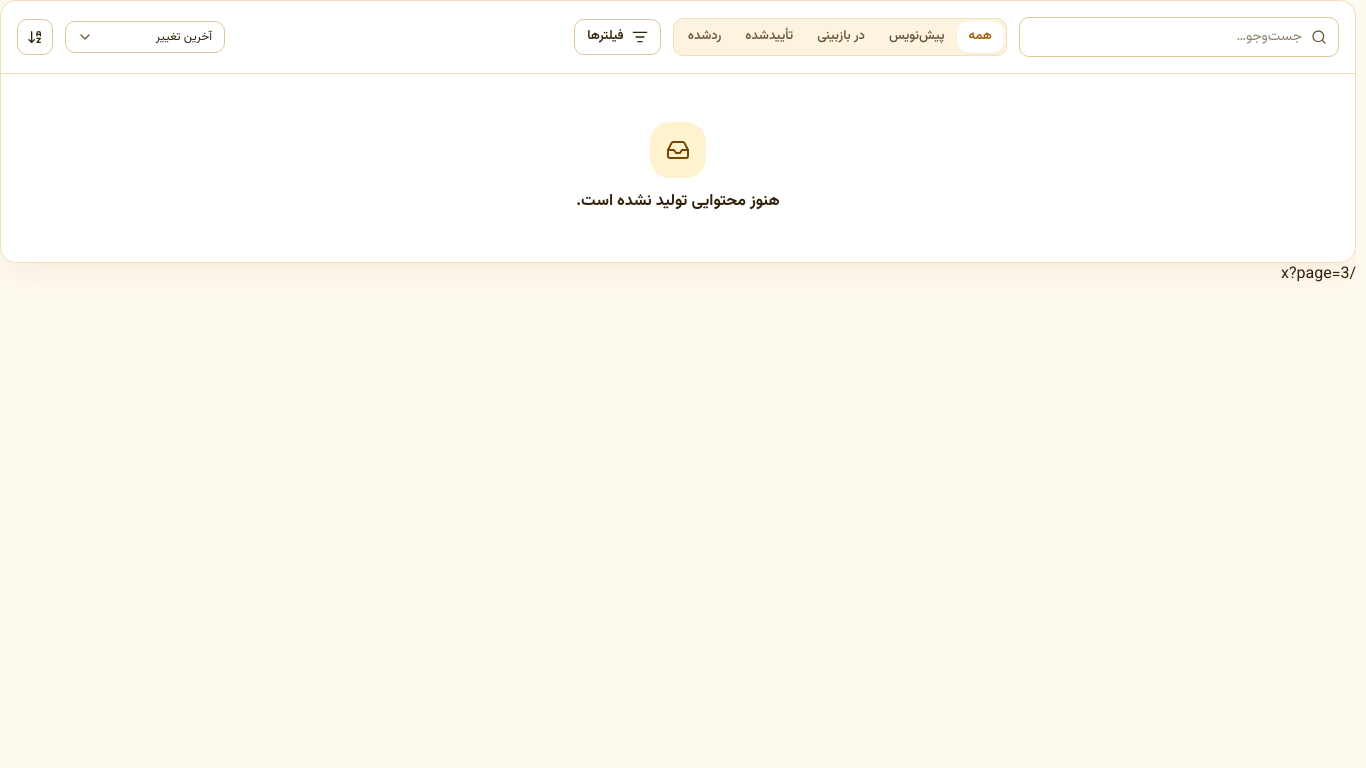
Test: ContentsTable filters › writes a chosen filter to the URL and starts from page one again
What coordinates should you click on to do the following:
click the button "فیلترها"
I would click on:
 (617, 37)
Its box is x1=574 y1=19 x2=661 y2=55.
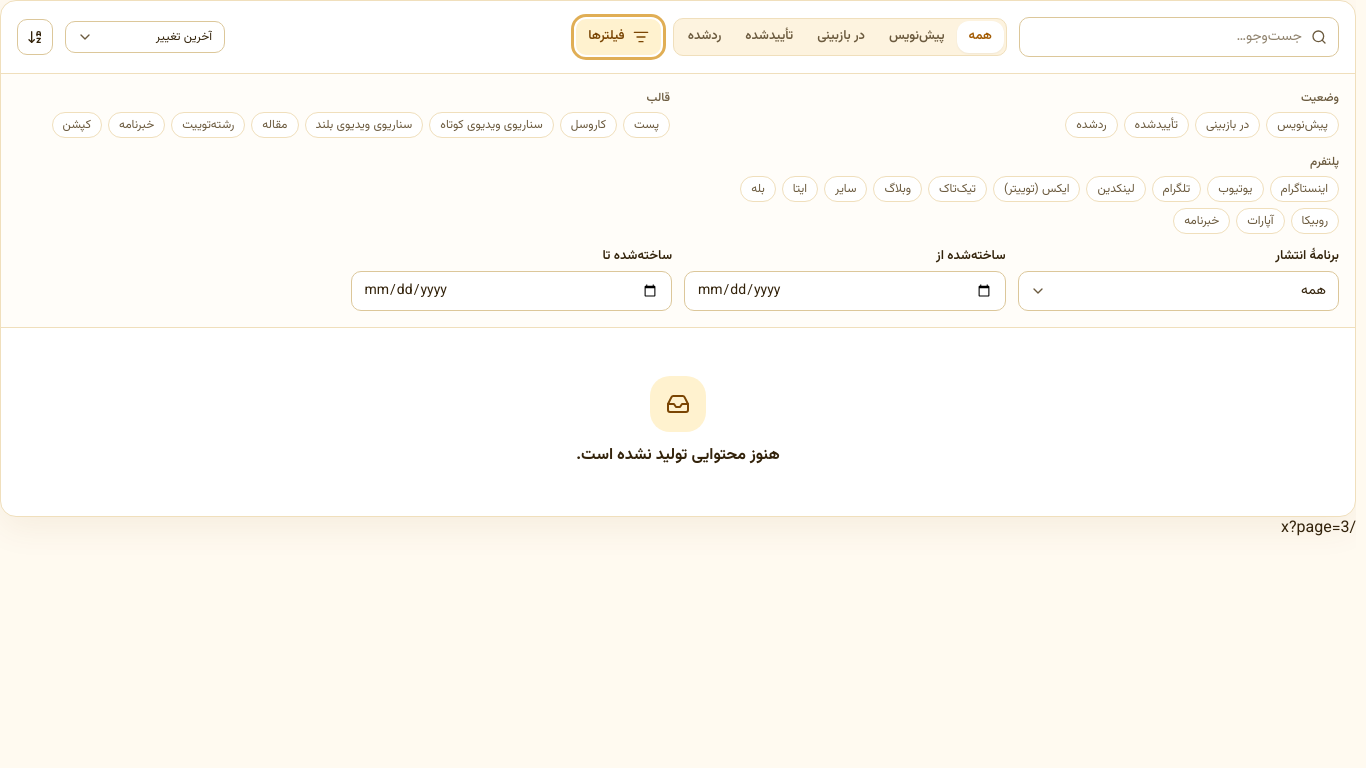
What coordinates should you click on to do the following:
click the button "رشته‌توییت"
I would click on:
 (208, 125)
Its box is x1=171 y1=112 x2=245 y2=138.
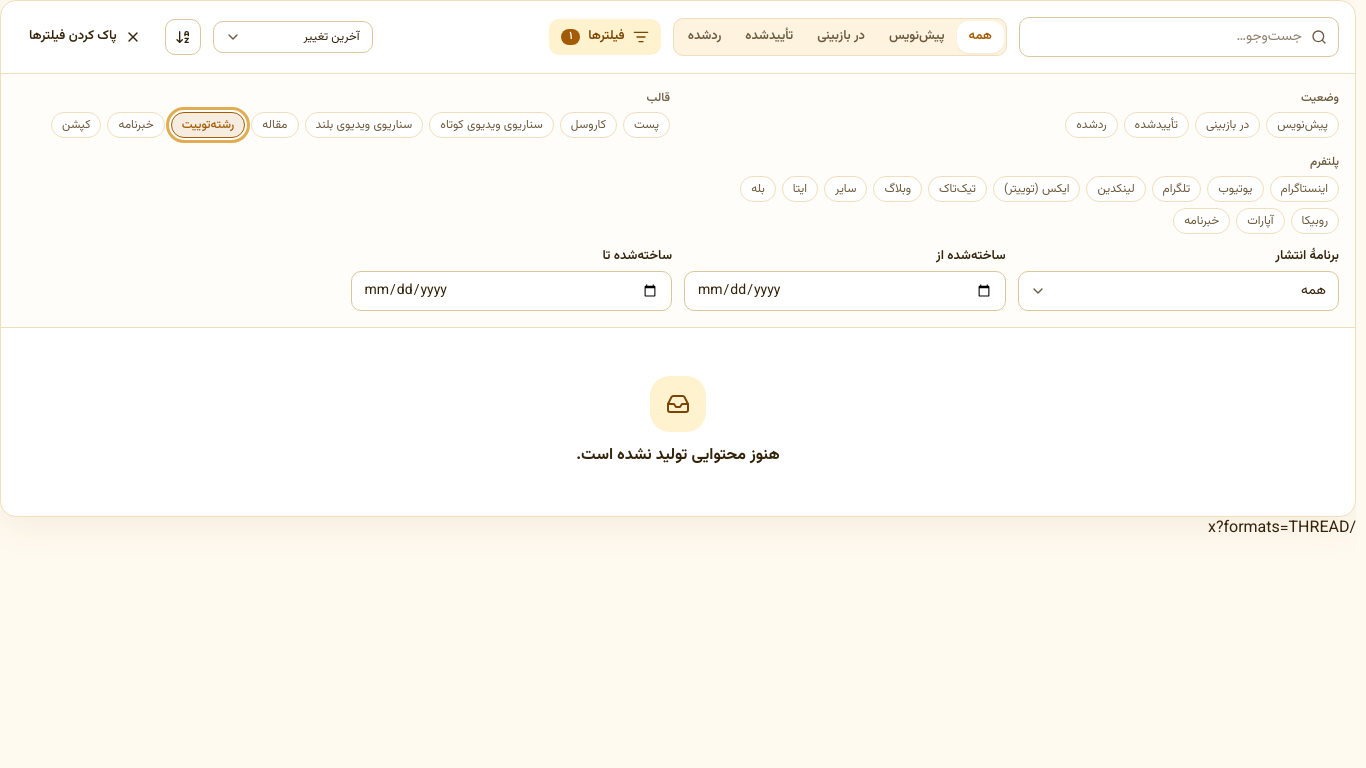
Expected: the text with test id "where" reads "/x?formats=THREAD", x1=1208 y1=516 x2=1356 y2=541
